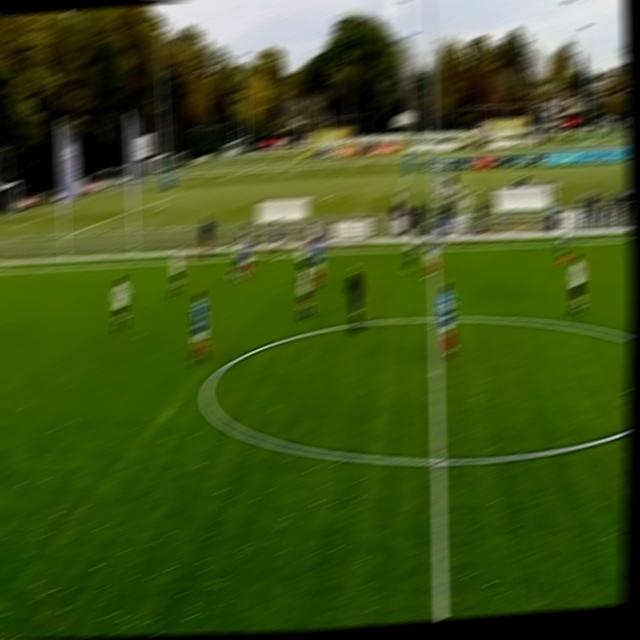halfcircle_bottom: (427, 447, 451, 477)
halfcircle_top: (425, 309, 445, 330)
